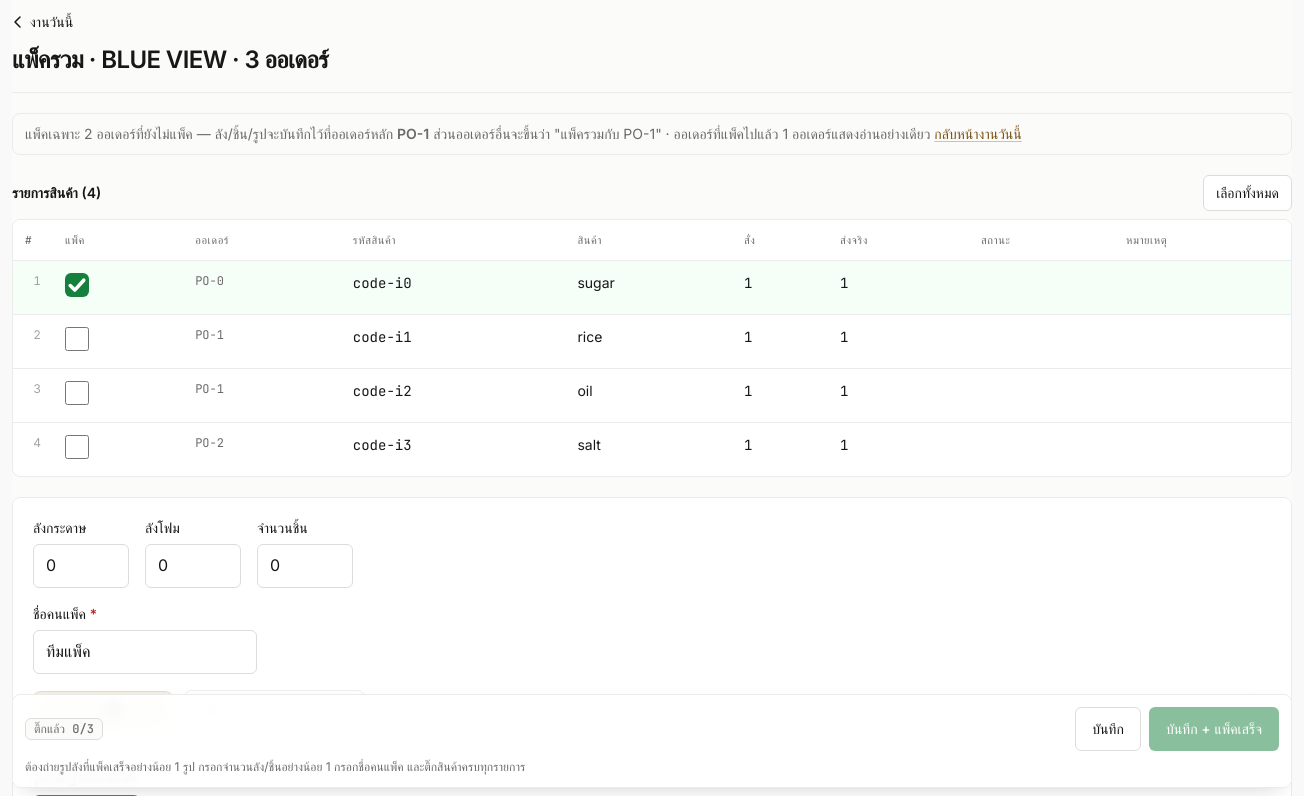
Scenario: select-all / clear-all only touches the editable lines and flips its label
The image size is (1304, 796).
Expected: the text "rice" is shown, [565,314,732,368]
Click the button "เลือกทั้งหมด" at (1248, 193), box [1203,175,1292,211]
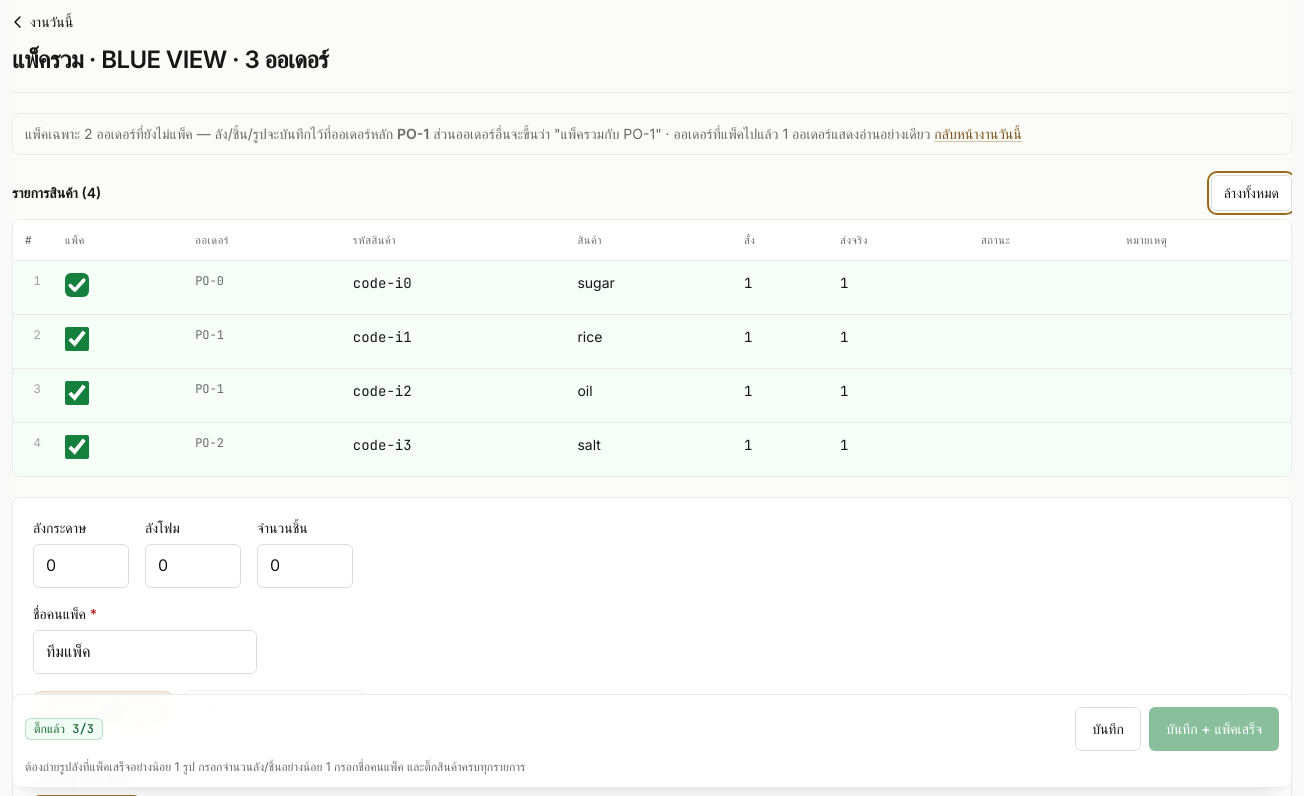
Expected: the checkbox named "แพ็คแล้ว: rice" is checked, [65,327,89,351]
Expected: the checkbox named "แพ็คแล้ว: oil" is checked, [65,381,89,405]
Expected: the checkbox named "แพ็คแล้ว: salt" is checked, [65,435,89,459]
Click the button "ล้างทั้งหมด" at (1251, 193), box [1211,175,1292,211]
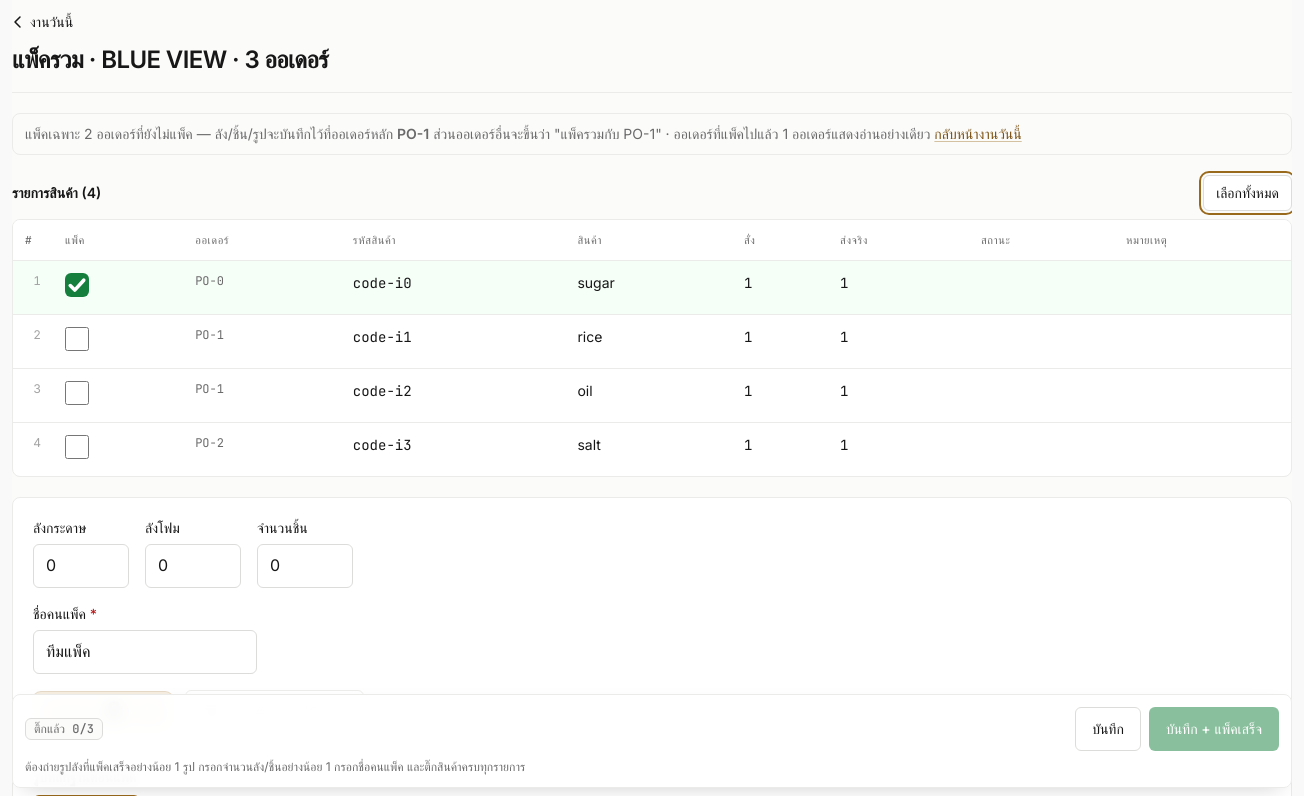
Expected: the checkbox named "แพ็คแล้ว: rice" is not checked, [65,327,89,351]
Expected: the checkbox named "แพ็คแล้ว: oil" is not checked, [65,381,89,405]
Expected: the checkbox named "แพ็คแล้ว: salt" is not checked, [65,435,89,459]
